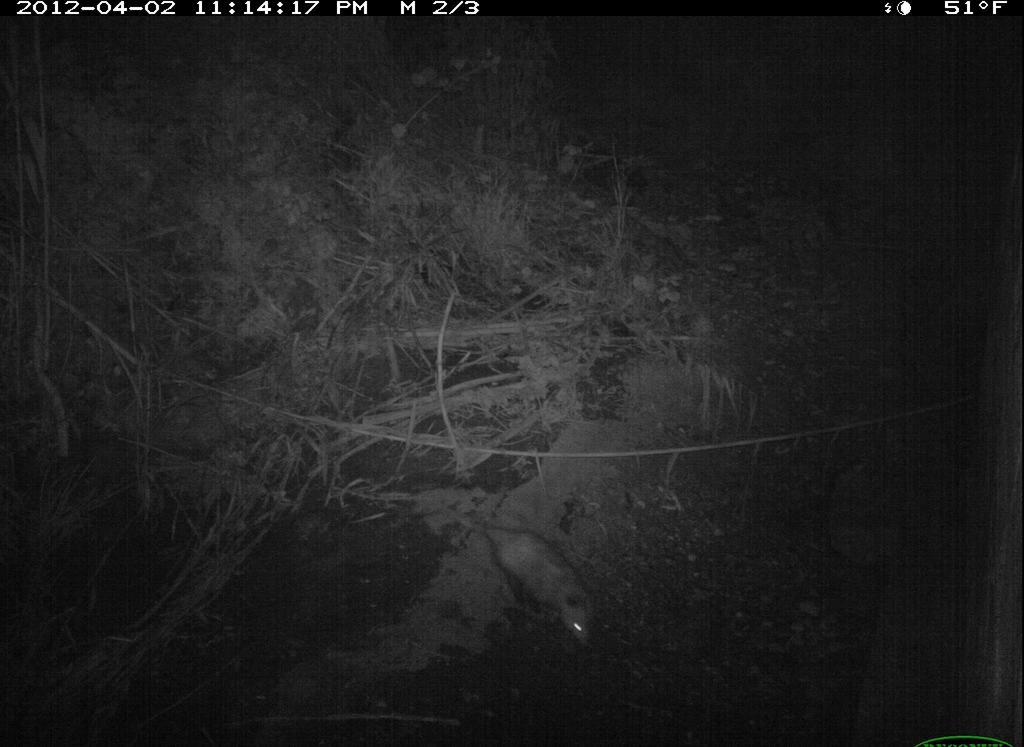opossum: (431, 488, 614, 662)
